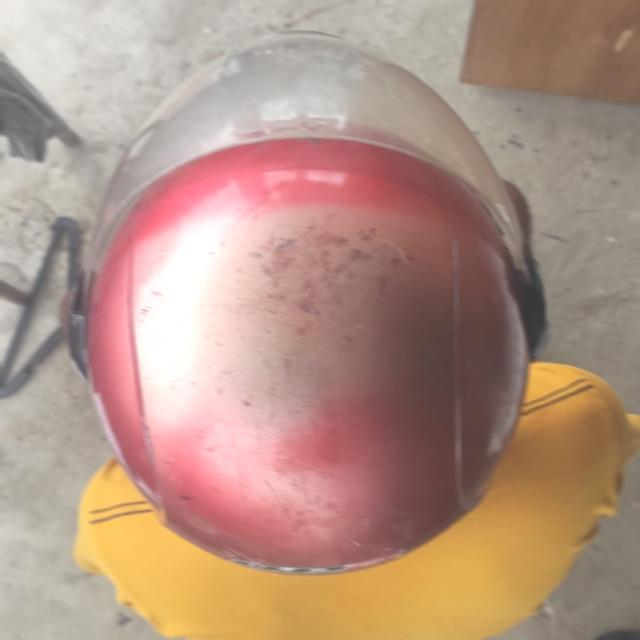With Helmet: (65, 29, 550, 571)
